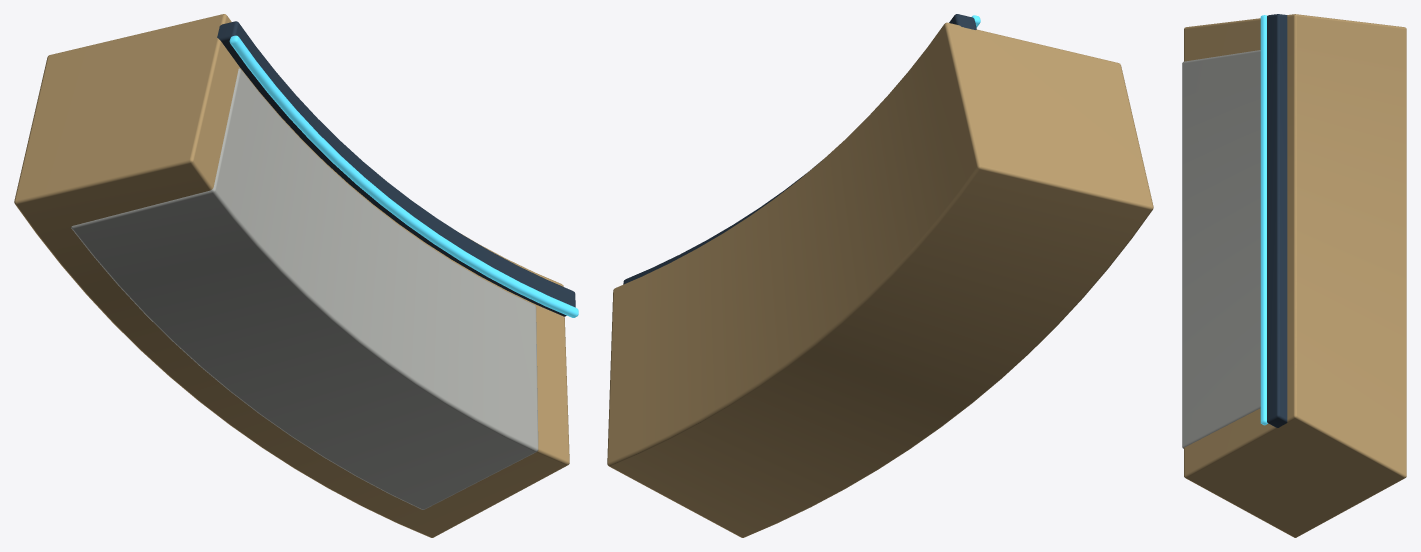
The model's file is SM_HC2_BeatHalo_031.fbx.
3 renders of one model, left to right at view 1: azimuth 30°, elevation 25°; view 2: azimuth 150°, elevation 25°; view 3: azimuth 270°, elevation 25°, orthographic. The views are drawn at different scales.
Visible parts, largest first — view 1: SM_HC2_BeatHalo_031; view 2: SM_HC2_BeatHalo_031; view 3: SM_HC2_BeatHalo_031.
Part boxes in pixels (x1=…): SM_HC2_BeatHalo_031: x1=14, y1=14, x2=578, y2=537; SM_HC2_BeatHalo_031: x1=607, y1=14, x2=1153, y2=537; SM_HC2_BeatHalo_031: x1=1182, y1=14, x2=1406, y2=537.
Bounding box in the file's own units: 288 × 132 × 288.
